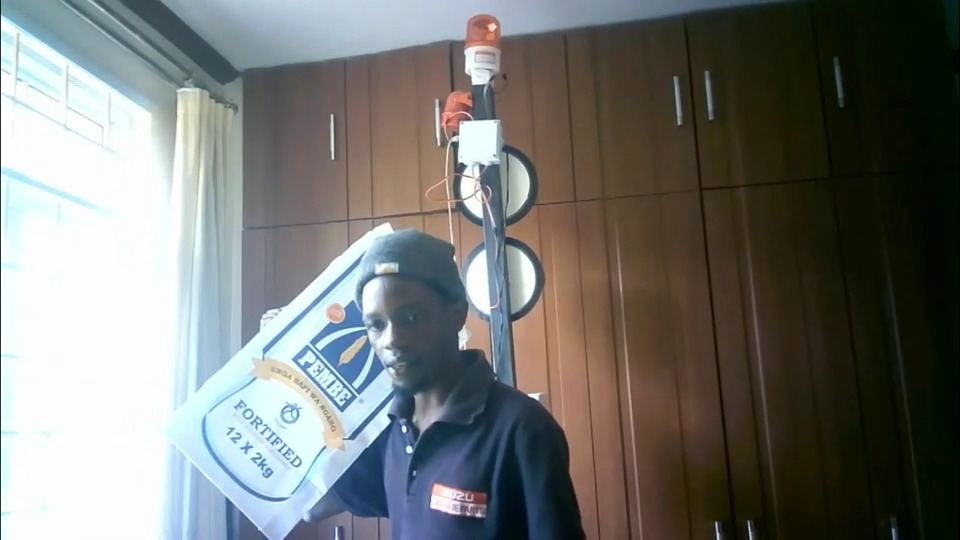wheat_flour_blue_label: (174, 221, 414, 530)
